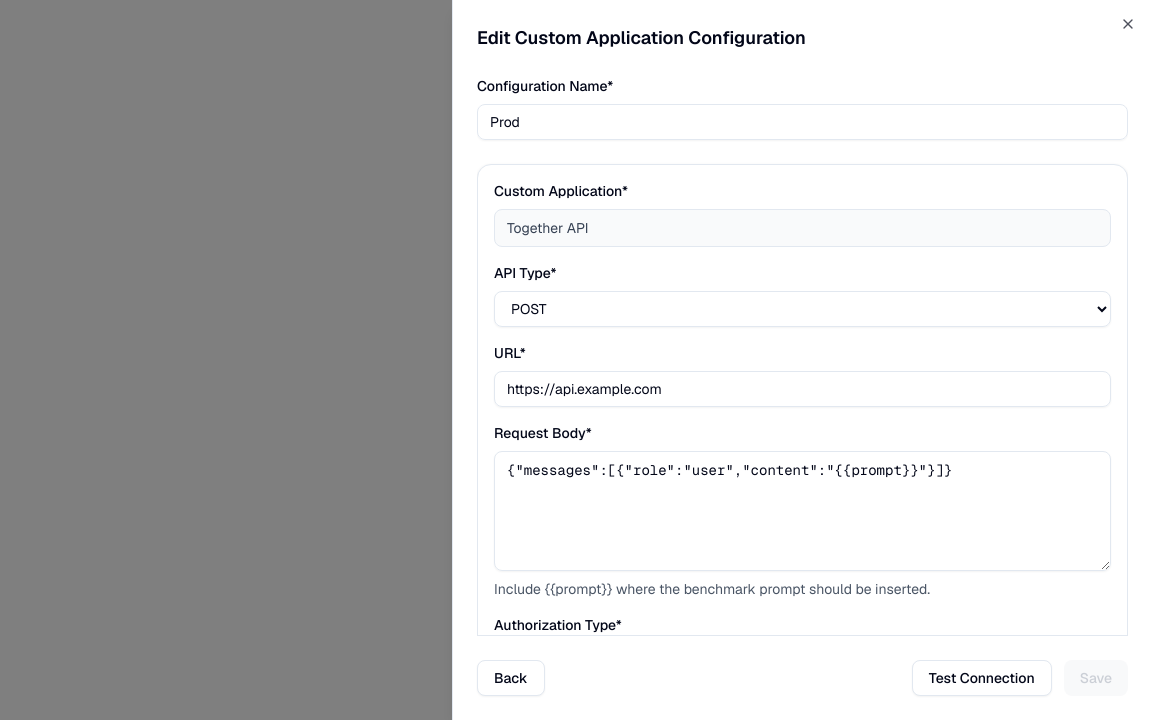
Scenario: EditCustomApplicationSheet › runs live connection test and shows raw response
What coordinates should you click on to do the following:
click the button "Test Connection"
I would click on:
 (982, 678)
Its box is [912,660,1052,696].
(page scrolled)
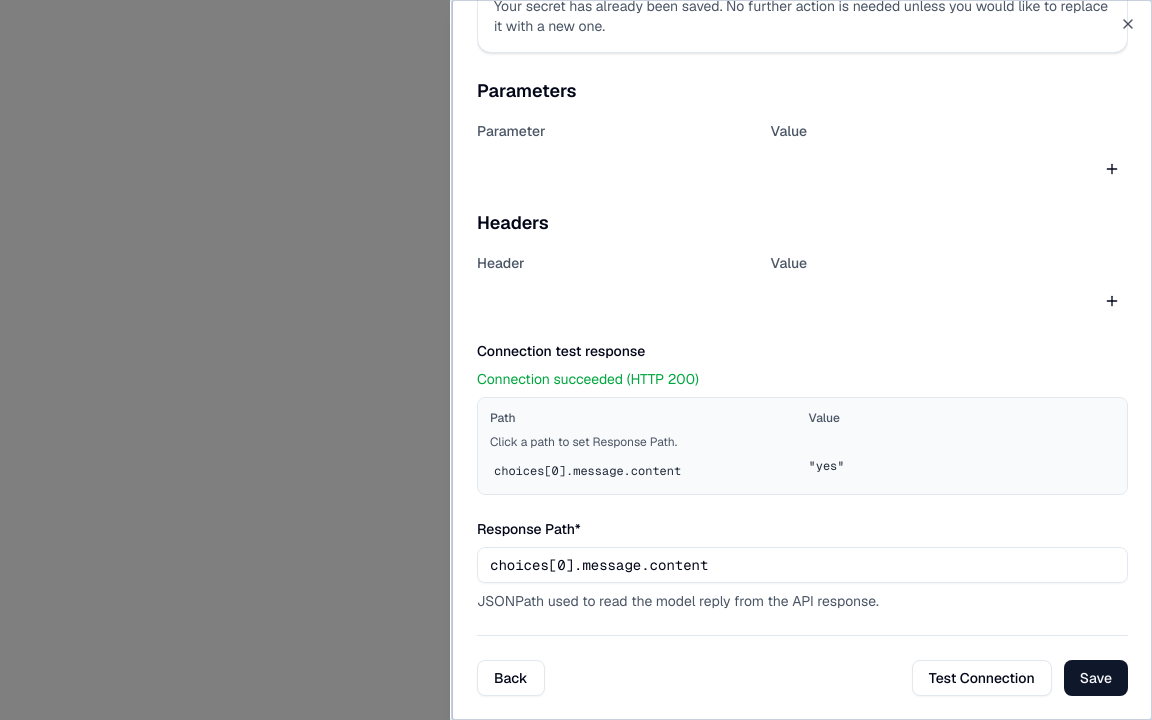
Check: the text "Connection succeeded (HTTP 200)" is shown, box [477,370,699,388]
Check: the button "choices[0].message.content" is shown, box [490,461,796,481]
Check: the text "\"yes\"" is shown, box [808,458,844,474]
